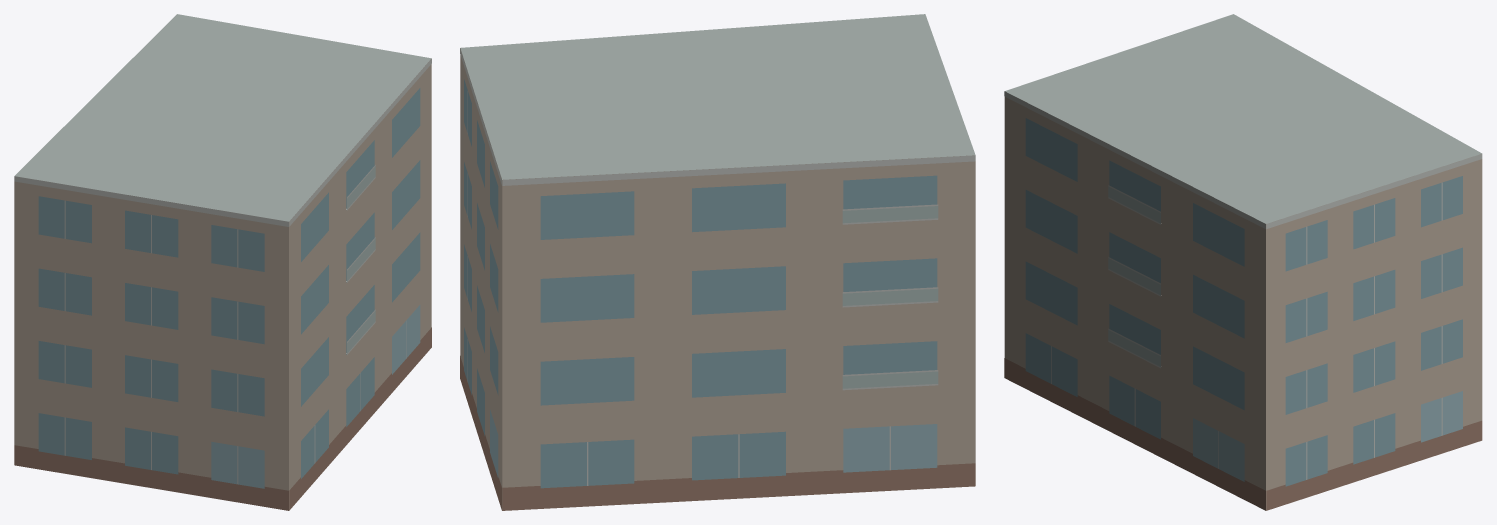
Rendered from survey-upis-32746237.glb.
3 renders of one model, left to right at view 1: azimuth 30°, elevation 25°; view 2: azimuth 150°, elevation 25°; view 3: azimuth 270°, elevation 25°, orthographic. The views are drawn at different scales.
Visible parts, largest first — view 1: survey-upis-32746237.tmp; view 2: survey-upis-32746237.tmp; view 3: survey-upis-32746237.tmp.
Boxes of the visible parts, bbox=[...] form: survey-upis-32746237.tmp: bbox=[14, 14, 431, 510]; survey-upis-32746237.tmp: bbox=[460, 14, 975, 510]; survey-upis-32746237.tmp: bbox=[1004, 14, 1482, 510].
Bounding box in the file's own units: 20.65 × 13.15 × 19.86.
